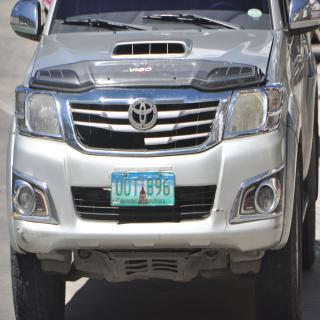license: (112, 173, 175, 207)
